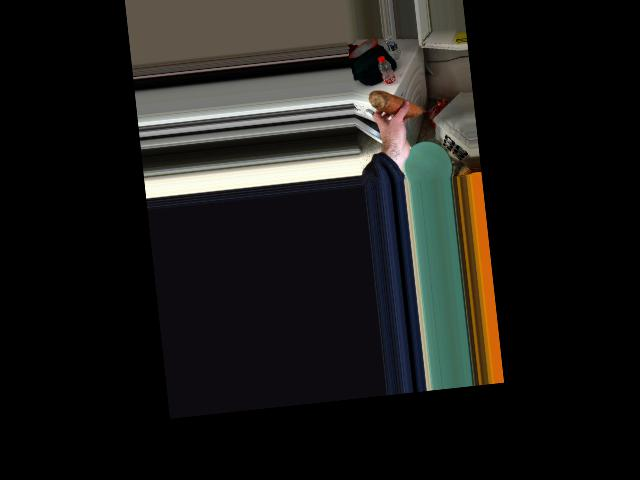sweet_potato: (371, 84, 422, 126)
